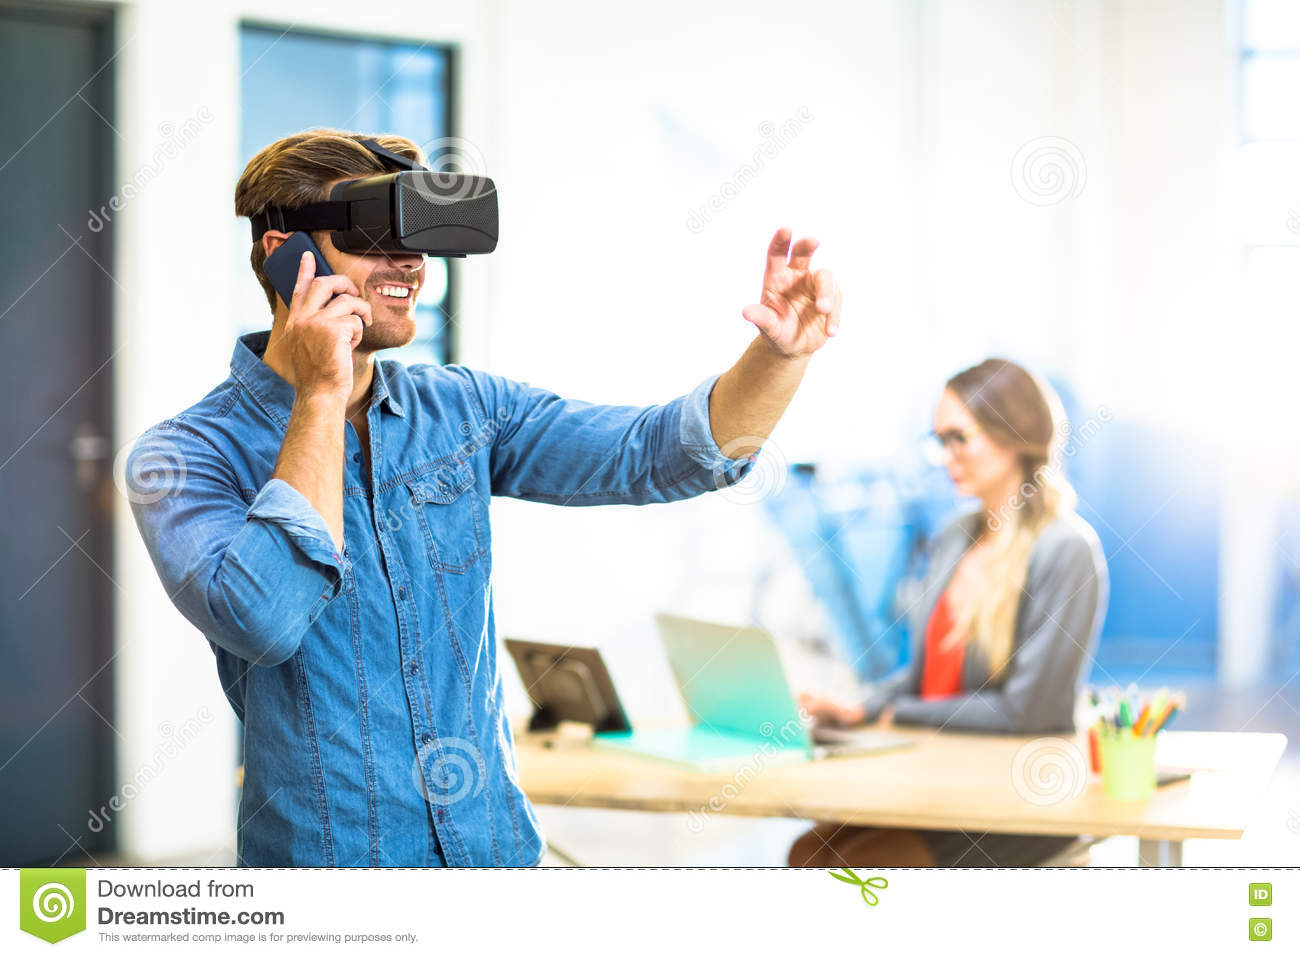phone: (264, 234, 344, 322)
talk: (256, 170, 433, 397)
